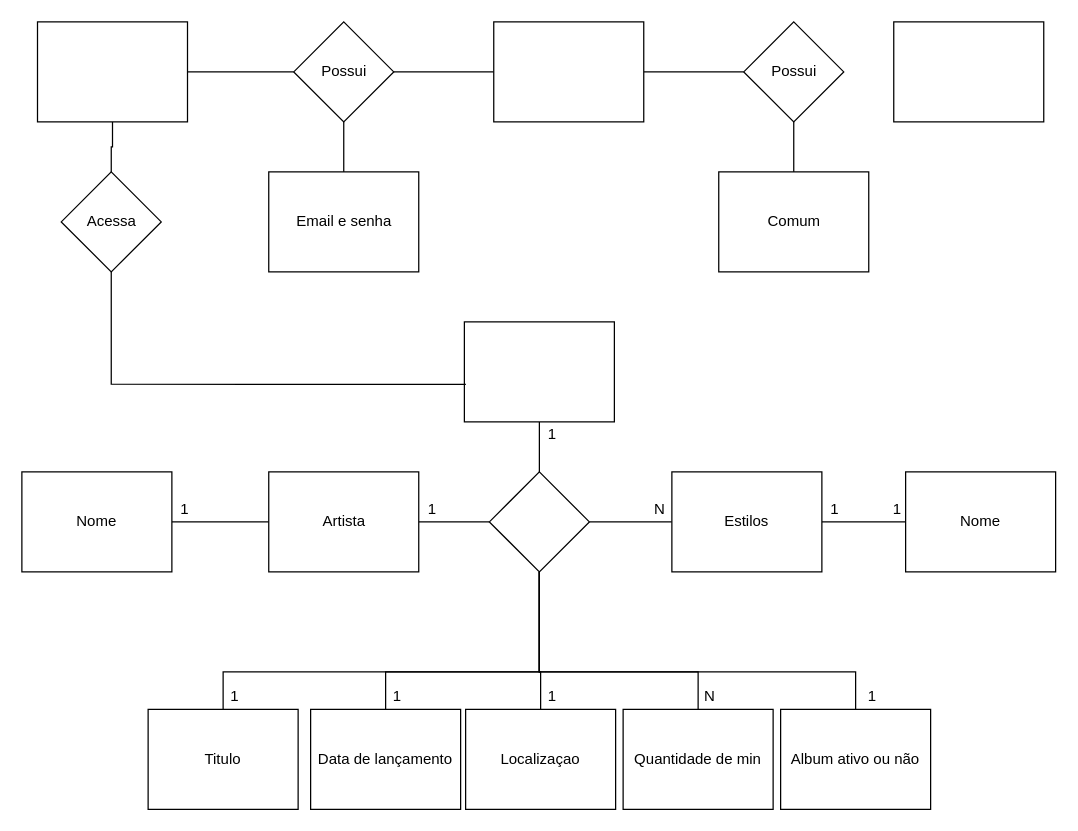
The diagram is 1078 pixels wide and 831 high, and some of its shapes have lost their labels. Here are the shapes that lost their labels. From the top down, the box of each, then its label:
(36, 21, 188, 122): Usuario
(492, 21, 644, 122): Peermissão
(892, 21, 1044, 122): Adiministrador
(463, 321, 614, 422): Álbum
(488, 471, 589, 572): Contem
